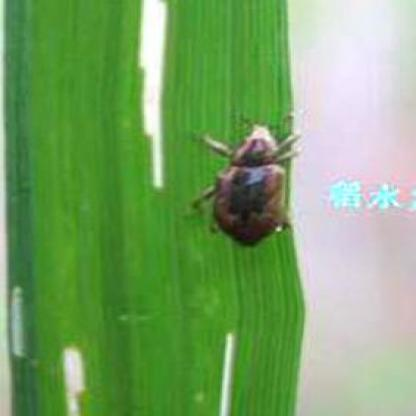rice-bug: (194, 122, 306, 250)
